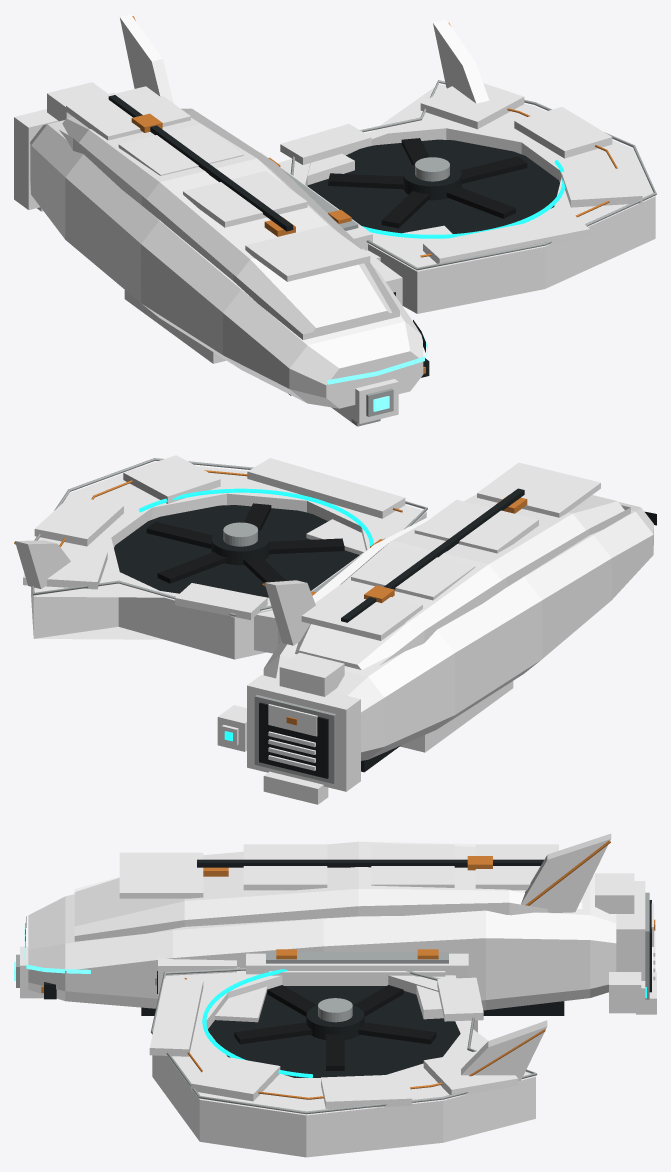
The model's file is morrowgear-family-a-field-v2.glb.
3 renders of one model, top to bottom at view 1: azimuth 30°, elevation 25°; view 2: azimuth 150°, elevation 25°; view 3: azimuth 270°, elevation 25°, orthographic.
Visible parts, largest first — view 1: F01_Fuselage, F02_UpperArmor, W02_DuctWing.R, R02_InnerWell.R, F02_TopPanel_0, W02_ArmorPanel_0.R, F02_TopPanel_1, F02_TopPanel_3, F02_TopPanel_2, W02_ArmorPanel_2.R, W02_ArmorPanel_1.R, W02_ArmorPanel_3.R (+18 smaller); view 2: F01_Fuselage, W02_DuctWing.R, F02_UpperArmor, R02_InnerWell.R, V01_RearHousing, W02_ArmorPanel_0.R, F02_TopPanel_0, F02_TopPanel_3, F02_TopPanel_1, F02_TopPanel_2, W02_ArmorPanel_2.R, W02_ArmorPanel_1.R (+22 smaller); view 3: F01_Fuselage, W02_DuctWing.R, F02_UpperArmor, R02_InnerWell.R, F02_TopPanel_0, T02_CenterFin.R, F02_TopPanel_1, W02_ArmorPanel_0.R, F02_TopPanel_2, W02_ArmorPanel_2.R, W02_ArmorPanel_1.R, W04_RearTipFairing.R (+25 smaller).
Part boxes in pixels (box(x1,y1,x2,y2)): F01_Fuselage: box(30, 120, 423, 408); F02_UpperArmor: box(59, 108, 399, 339); W02_DuctWing.R: box(293, 84, 655, 313); R02_InnerWell.R: box(307, 139, 559, 233); F02_TopPanel_0: box(245, 225, 370, 281); W02_ArmorPanel_0.R: box(423, 214, 589, 263); F02_TopPanel_1: box(183, 171, 307, 227); F02_TopPanel_3: box(66, 86, 190, 140); F02_TopPanel_2: box(118, 124, 243, 175); W02_ArmorPanel_2.R: box(514, 107, 612, 158); W02_ArmorPanel_1.R: box(561, 167, 642, 207); W02_ArmorPanel_3.R: box(420, 83, 524, 129); F01_Fuselage: box(263, 502, 653, 760); W02_DuctWing.R: box(31, 462, 426, 659); F02_UpperArmor: box(295, 494, 630, 669); R02_InnerWell.R: box(114, 505, 359, 597); V01_RearHousing: box(247, 675, 360, 791); W02_ArmorPanel_0.R: box(247, 458, 405, 518); F02_TopPanel_0: box(477, 462, 600, 517); F02_TopPanel_3: box(301, 584, 422, 640); F02_TopPanel_1: box(414, 499, 538, 553); F02_TopPanel_2: box(351, 546, 475, 600); W02_ArmorPanel_2.R: box(34, 495, 123, 546); W02_ArmorPanel_1.R: box(123, 455, 220, 503); F01_Fuselage: box(28, 874, 616, 1010); W02_DuctWing.R: box(152, 971, 535, 1157); F02_UpperArmor: box(74, 841, 582, 941); R02_InnerWell.R: box(208, 986, 460, 1077); F02_TopPanel_0: box(119, 852, 203, 898); T02_CenterFin.R: box(521, 833, 611, 912); F02_TopPanel_1: box(243, 844, 327, 890); W02_ArmorPanel_0.R: box(149, 978, 203, 1056); F02_TopPanel_2: box(371, 844, 454, 887); W02_ArmorPanel_2.R: box(321, 1074, 412, 1108); W02_ArmorPanel_1.R: box(191, 1055, 280, 1101); W04_RearTipFairing.R: box(461, 1020, 547, 1080).
Size of what is drawn, in the model's own units: 4.8 by 2.39 by 5.55.
